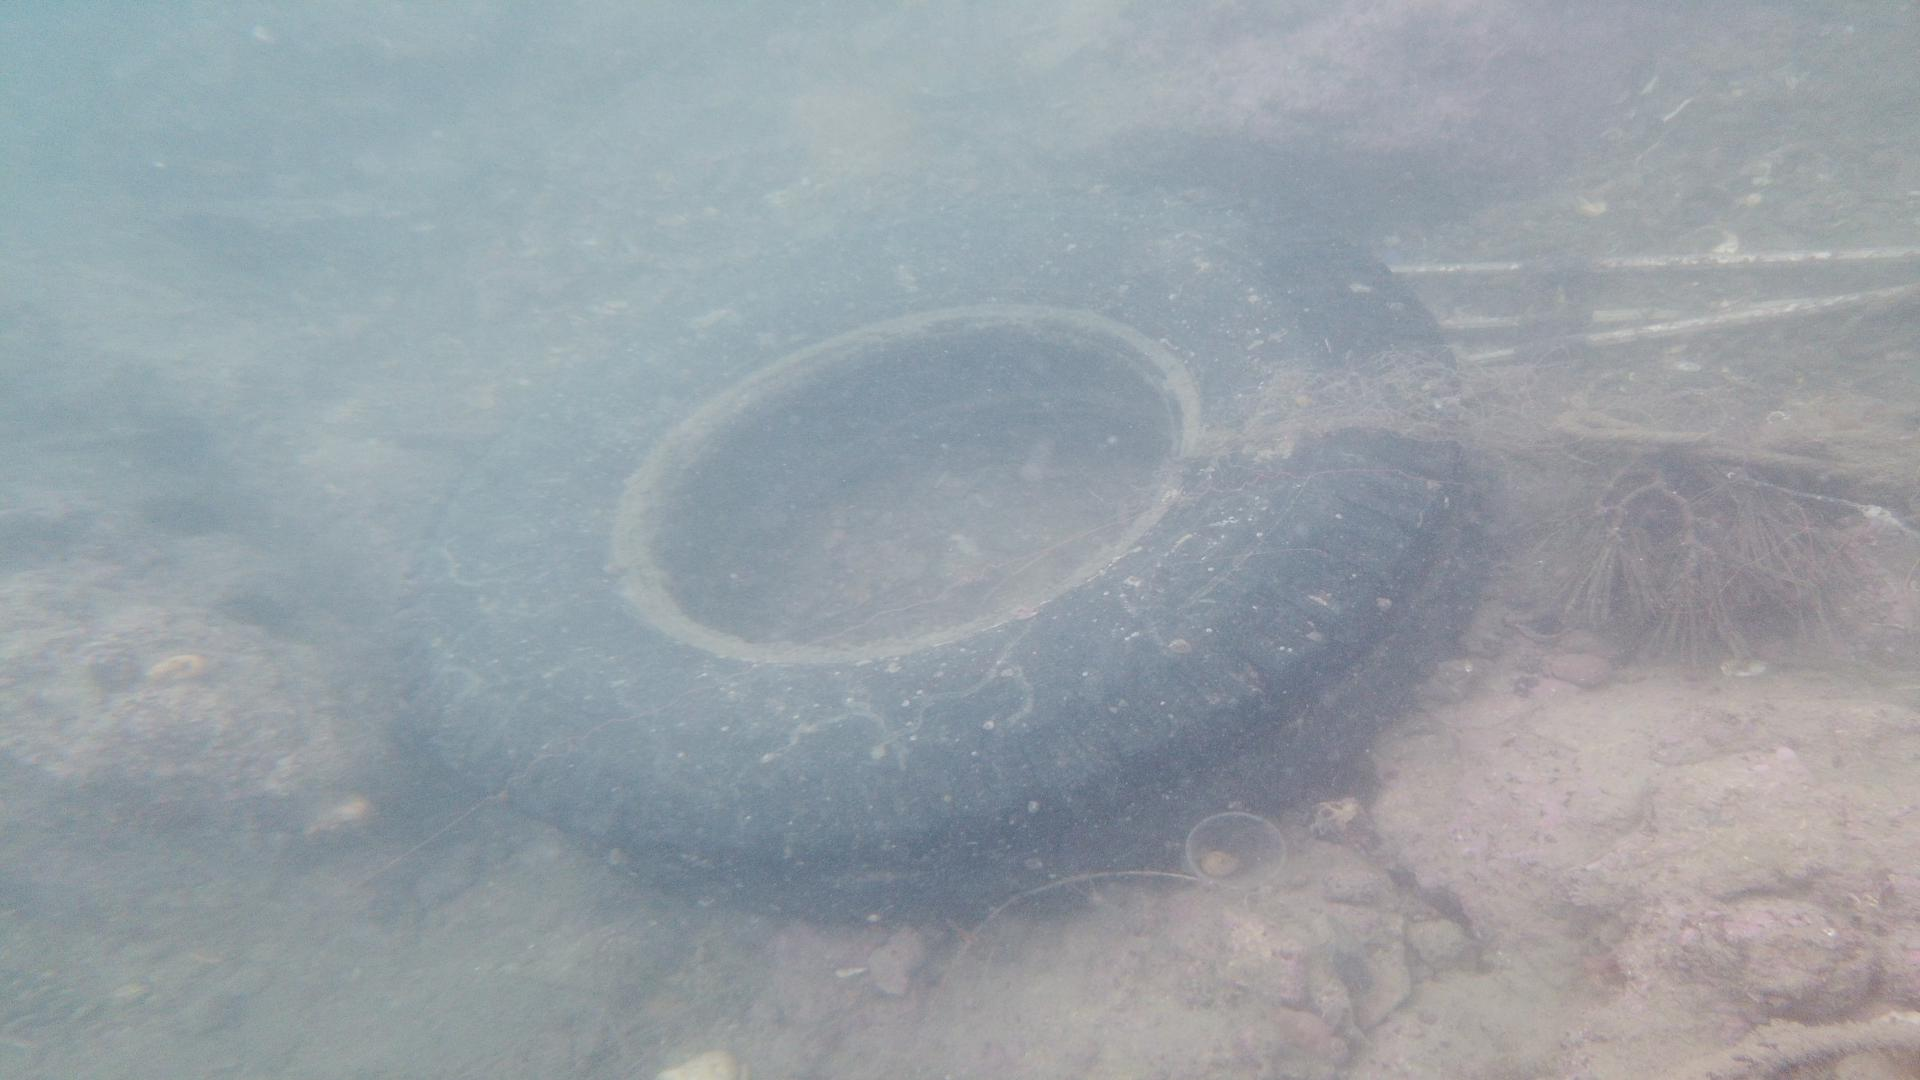tire: (393, 185, 1501, 935)
